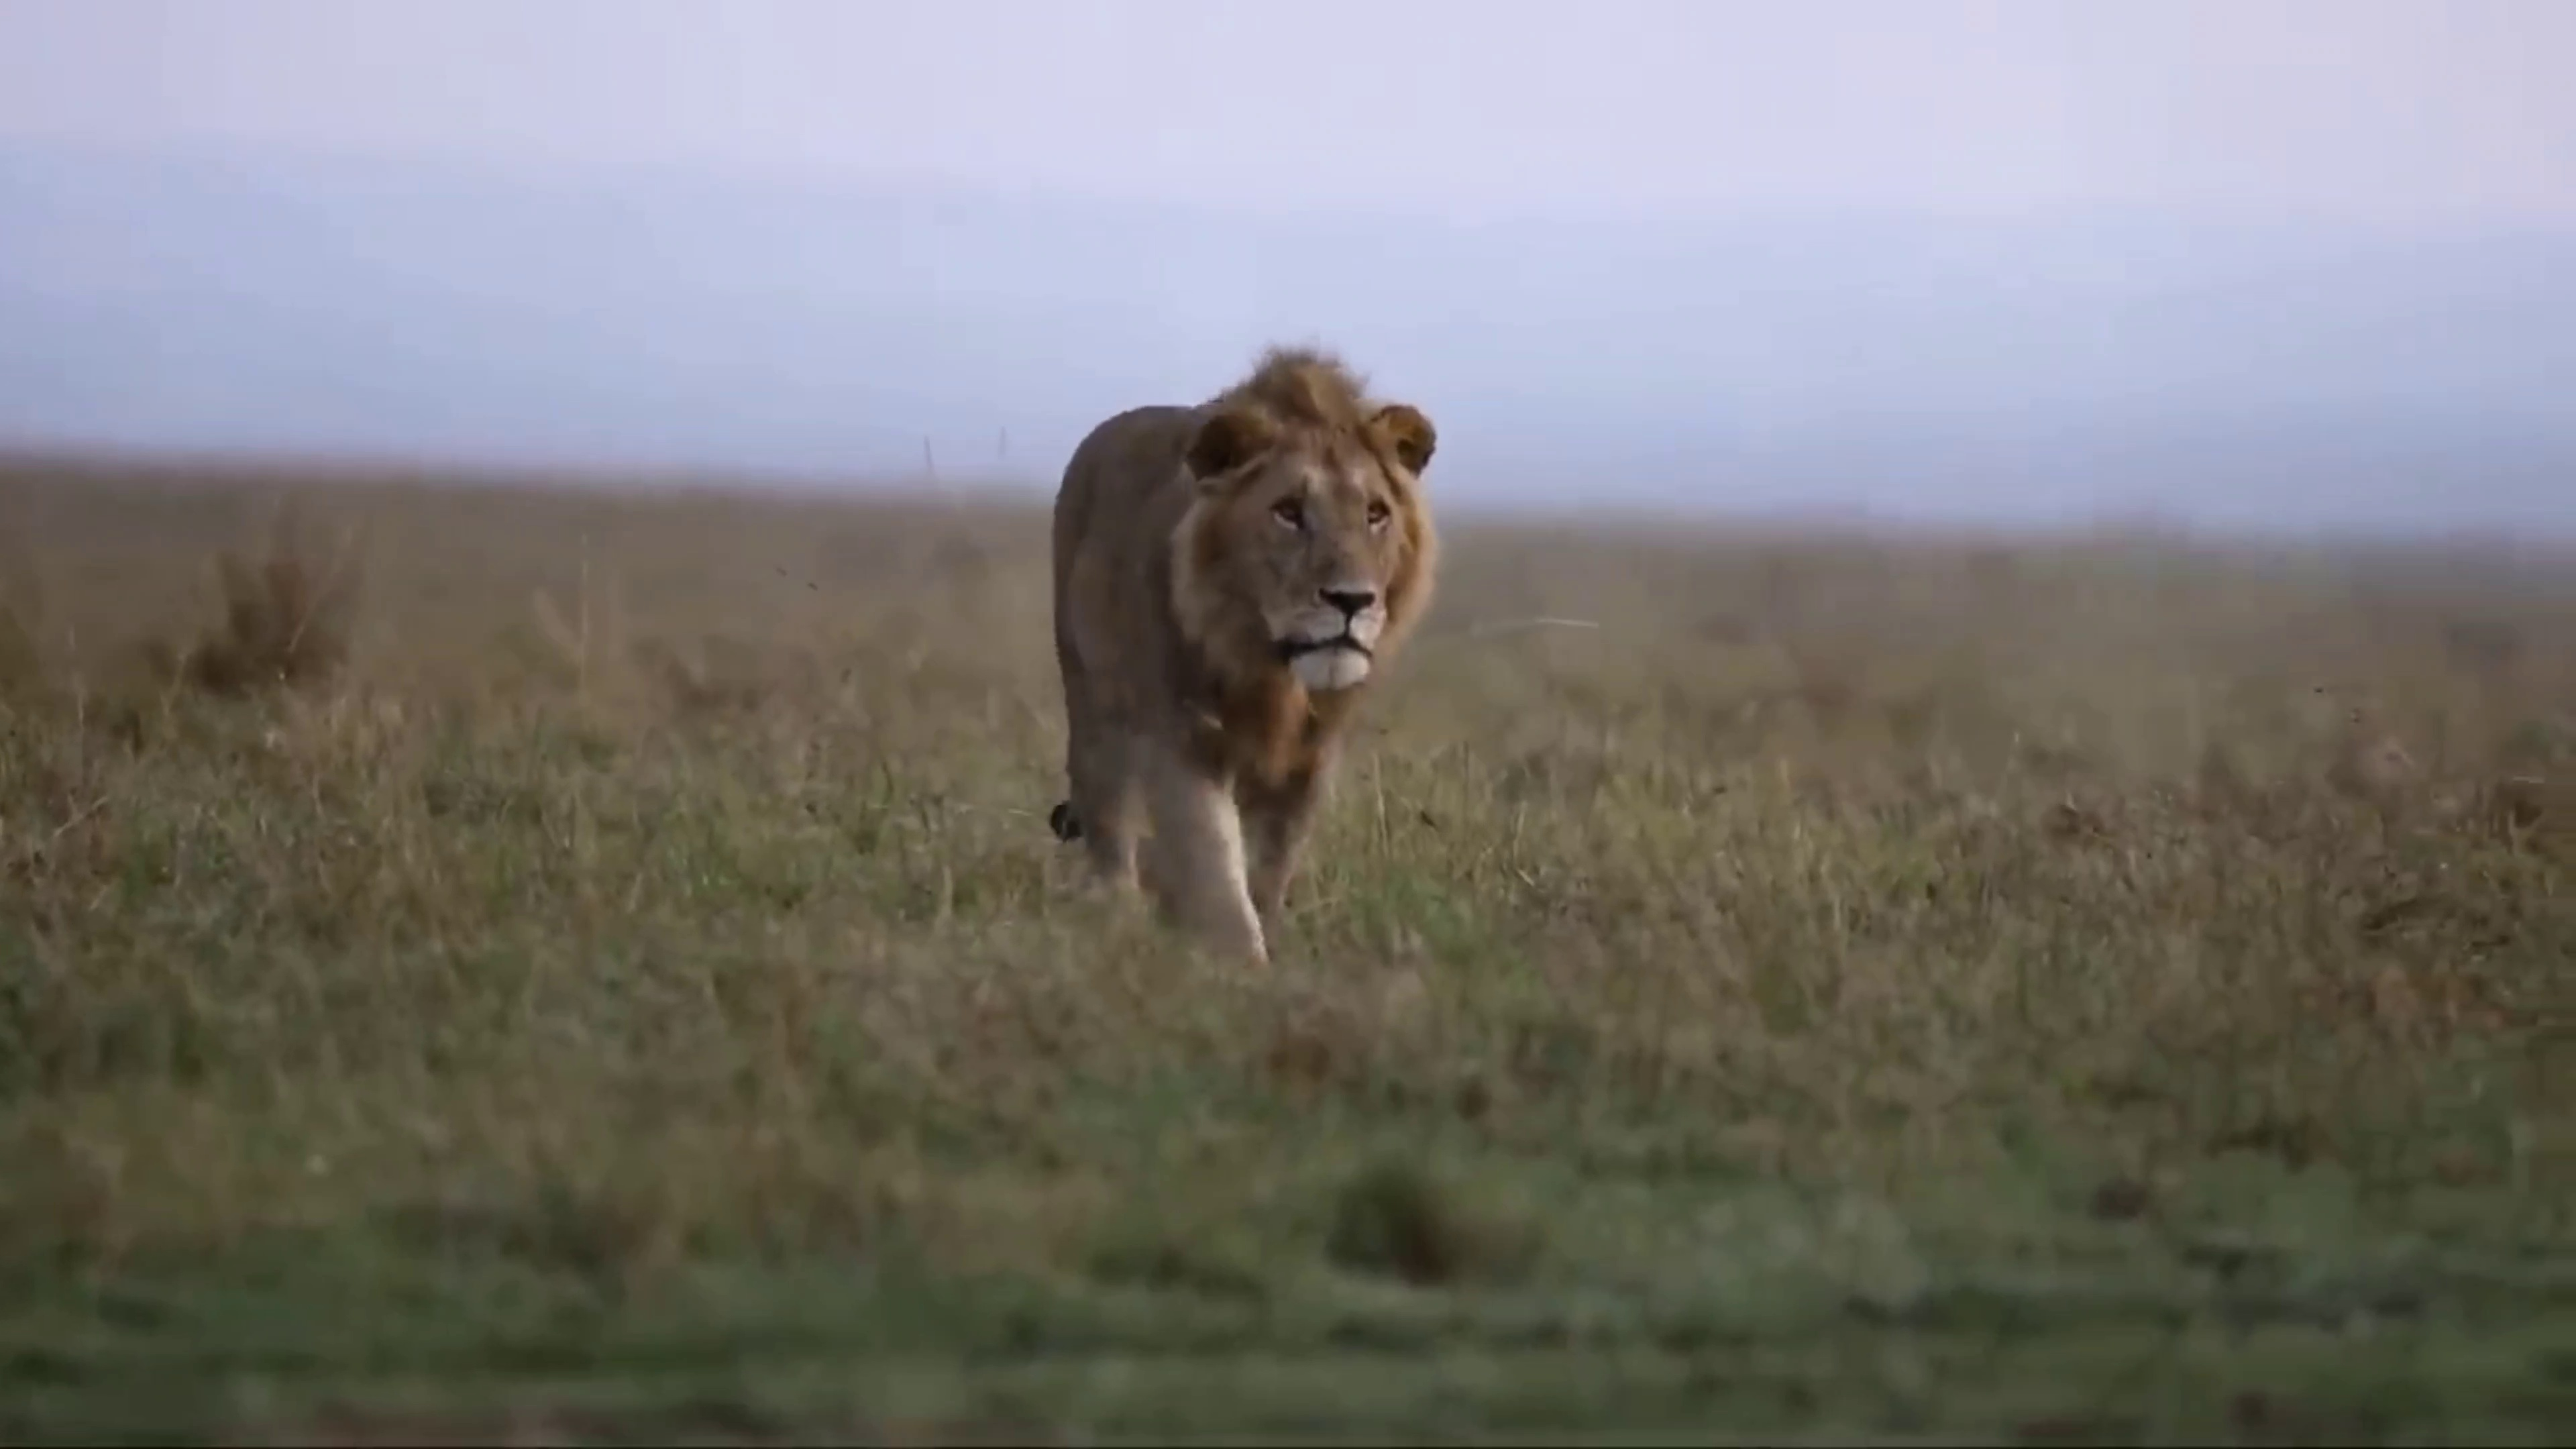Lion: (1049, 340, 1442, 968)
